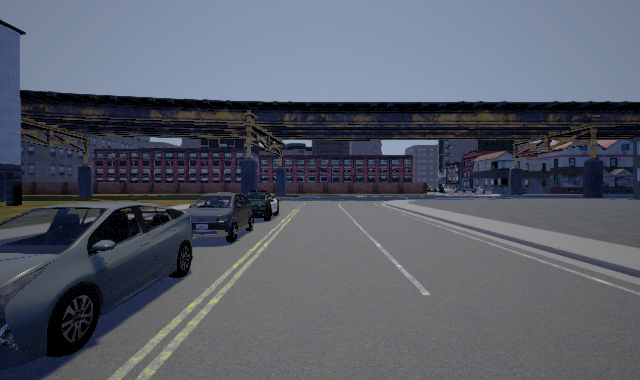vehicle: (1, 200, 194, 370), (186, 190, 252, 244), (242, 190, 283, 220)
